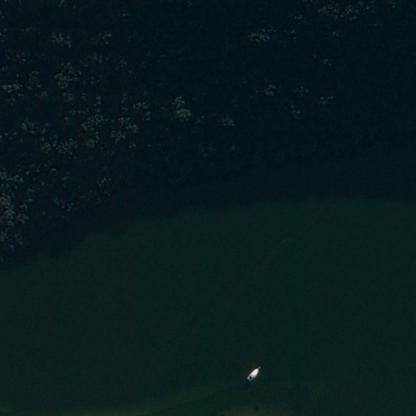ship: (246, 367, 258, 381)
